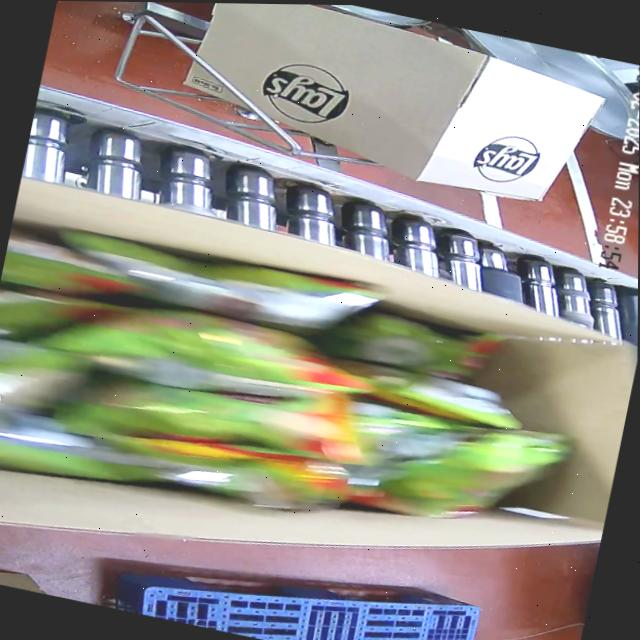YOGURT_HERB: (0, 209, 545, 569)
